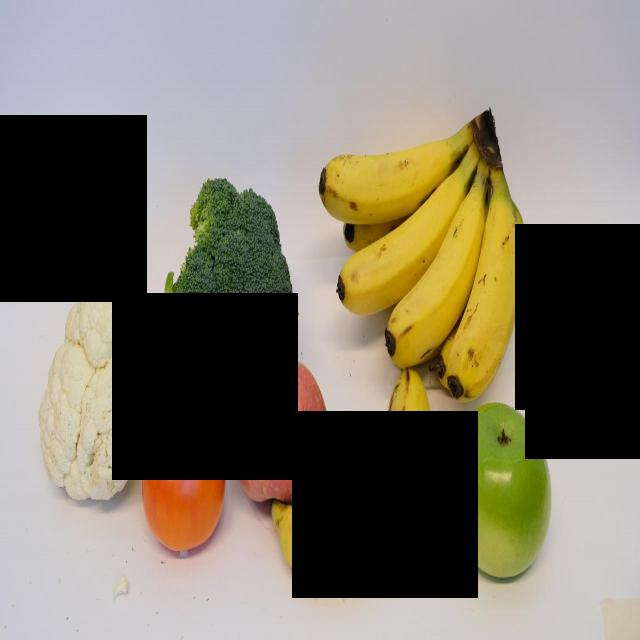apple: (447, 402, 552, 582)
banana: (270, 366, 433, 586), (334, 156, 478, 312), (383, 187, 491, 369), (444, 187, 526, 403), (313, 120, 455, 208)
broccoli: (151, 175, 294, 451)
cauliflower: (38, 252, 160, 504)
tomato: (141, 408, 227, 555)
